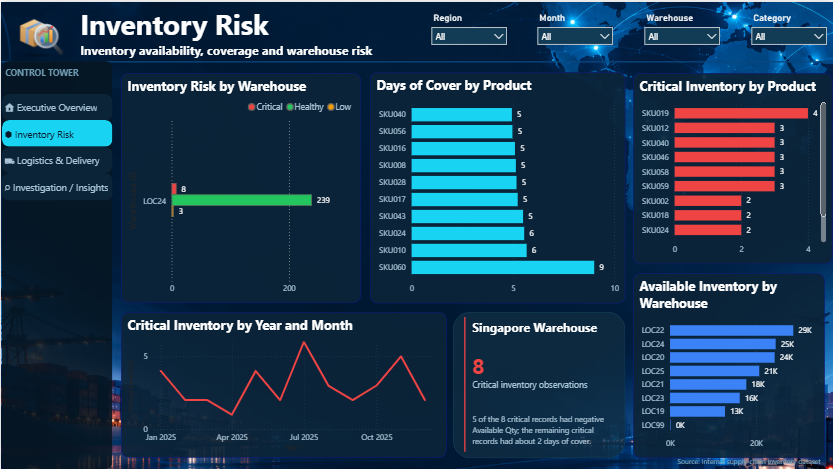

The dashboard page shown, as its layout file describes it:
{"tool":"powerbi","page":{"name":"Inventory Analysis","canvas":[1280,720],"ordinal":1},"visuals":[{"type":"clusteredBarChart","title":"Critical Inventory by Product","fields":{"Category":["fact_inventory.Product_ID"],"Y":["fact_inventory.Critical Inventory"]},"box":[972.9,108.6,307.1,294.3],"z":0},{"type":"clusteredBarChart","title":"Inventory Risk by Warehouse","fields":{"Category":["fact_inventory.Warehouse_ID"],"Series":["fact_inventory.Inventory_Risk"],"Y":["CountNonNull(fact_inventory.Product_ID)"]},"box":[184.3,108.6,368.6,354.3],"z":1000},{"type":"clusteredBarChart","title":"Days of Cover by Product","fields":{"Category":["fact_inventory.Product_ID"],"Y":["fact_inventory.Average Days of Cover"]},"box":[567.1,107.1,392.9,355.7],"z":2000},{"type":"clusteredBarChart","title":"Available Inventory by Warehouse","fields":{"Category":["fact_inventory.Warehouse_ID"],"Y":["fact_inventory.Total Available"]},"box":[972.7,417.3,294.5,284.5],"z":3000},{"type":"lineChart","fields":{"Y":["fact_inventory.Critical Inventory"],"Category":["dim_date.Date.Variation.Date Hierarchy.Year","dim_date.Date.Variation.Date Hierarchy.Month"]},"box":[184.3,477.1,501.4,224.3],"z":4000},{"type":"textbox","box":[117.1,0,490,114.3],"z":5000},{"type":"slicer","fields":{"Values":["dim_location.Region"]},"box":[652,10,136,70],"z":6000},{"type":"slicer","fields":{"Values":["dim_date.Date.Variation.Date Hierarchy.Month"]},"box":[816,10,136,97],"z":7000},{"type":"slicer","fields":{"Values":["fact_inventory.Warehouse_ID"]},"box":[980,10,136,97],"z":8000},{"type":"slicer","fields":{"Values":["dim_product.Category"]},"box":[1144,10,136,97],"z":9000},{"type":"shape","box":[0,68.6,1280,45.7],"z":10000},{"type":"image","box":[11,0,93,91],"z":11000},{"type":"shape","box":[695,476.7,265,225],"z":12000},{"type":"shape","box":[708.2,484.5,11.8,207.3],"z":13000},{"type":"textbox","box":[720,483.8,232.5,218.8],"z":14000},{"type":"textbox","box":[720,532.5,192.5,91.2],"z":15000},{"type":"textbox","box":[1035.5,691.8,231.8,28.2],"z":16000},{"type":"shape","box":[1.4,91.4,170,628.2],"z":23000},{"type":"actionButton","box":[1.4,141.4,170,40.9],"z":24000},{"type":"actionButton","box":[1.4,182.1,170,41.2],"z":25000},{"type":"actionButton","box":[1.4,223.4,170,40],"z":26000},{"type":"actionButton","box":[1.4,263.4,170,42.5],"z":27000},{"type":"textbox","box":[1.4,96,168.2,45.5],"z":28000}]}

Visuals, with their boxes on the page's 1280x720 design canvas (x1, y1, x2, y2). These are canvas units, not pixel positions in the 833x469 screenshot, which may show the page scaled, cropped or inside an application window:
"Critical Inventory by Product" clusteredBarChart: l=973, t=109, r=1280, b=403
"Inventory Risk by Warehouse" clusteredBarChart: l=184, t=109, r=553, b=463
"Days of Cover by Product" clusteredBarChart: l=567, t=107, r=960, b=463
"Available Inventory by Warehouse" clusteredBarChart: l=973, t=417, r=1267, b=702
lineChart - fact_inventory.Critical Inventory x dim_date.Date.Variation.Date Hierarchy.Year: l=184, t=477, r=686, b=701
textbox: l=117, t=0, r=607, b=114
slicer - dim_location.Region: l=652, t=10, r=788, b=80
slicer - dim_date.Date.Variation.Date Hierarchy.Month: l=816, t=10, r=952, b=107
slicer - fact_inventory.Warehouse_ID: l=980, t=10, r=1116, b=107
slicer - dim_product.Category: l=1144, t=10, r=1280, b=107
shape: l=0, t=69, r=1280, b=114
image: l=11, t=0, r=104, b=91
shape: l=695, t=477, r=960, b=702
shape: l=708, t=484, r=720, b=692
textbox: l=720, t=484, r=952, b=703
textbox: l=720, t=532, r=912, b=624
textbox: l=1036, t=692, r=1267, b=720
shape: l=1, t=91, r=171, b=720
actionButton: l=1, t=141, r=171, b=182
actionButton: l=1, t=182, r=171, b=223
actionButton: l=1, t=223, r=171, b=263
actionButton: l=1, t=263, r=171, b=306
textbox: l=1, t=96, r=170, b=142
